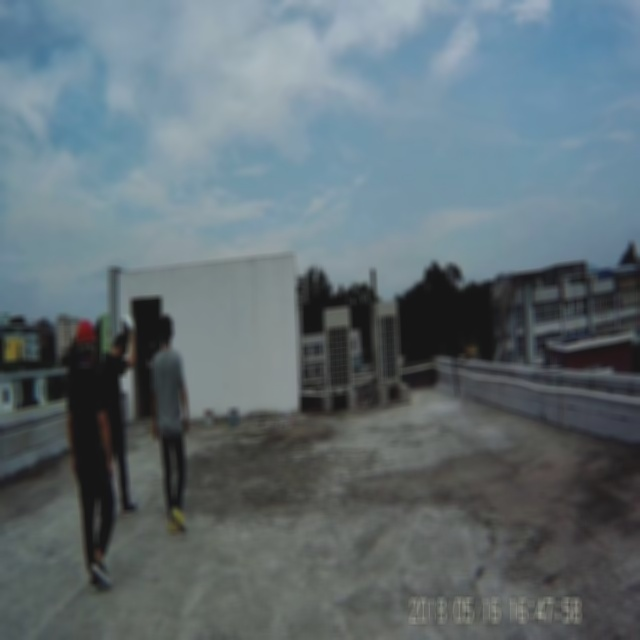Sin_Chaleco: (152, 348, 184, 434)
